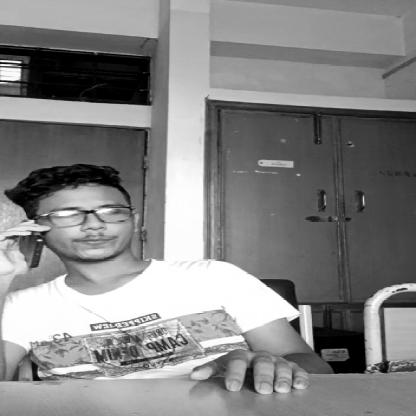Normal: (51, 181, 141, 262)
